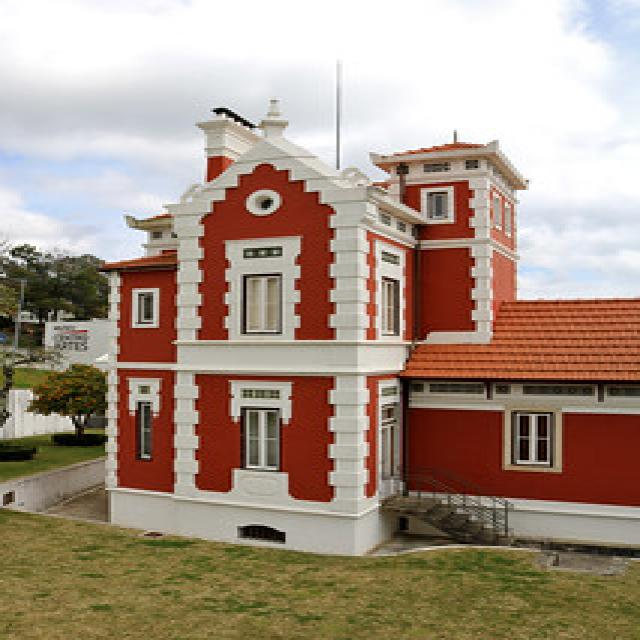Normal_building: (93, 102, 640, 560)
